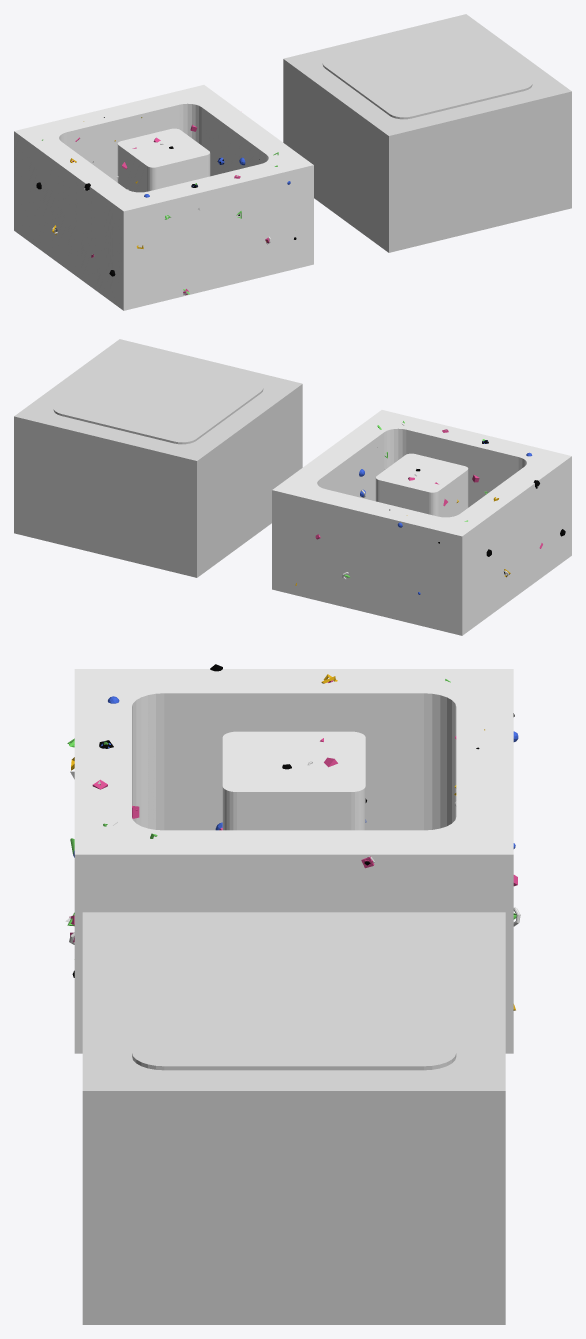
Rendered from wall2.glb.
3 renders of one model, top to bottom at view 1: azimuth 30°, elevation 25°; view 2: azimuth 150°, elevation 25°; view 3: azimuth 270°, elevation 25°, orthographic. The views are drawn at different scales.
Visible parts, largest first — view 1: Exterior wall volume, System, Cube; view 2: Exterior wall volume, System, Cube; view 3: System, Exterior wall volume, Cube.
Part boxes in pixels (x1,y1,x2,y2): Exterior wall volume: (14, 85, 313, 310); System: (283, 14, 571, 252); Cube: (322, 28, 532, 119); Exterior wall volume: (272, 410, 571, 635); System: (14, 339, 302, 577); Cube: (53, 353, 263, 444); System: (82, 912, 505, 1324); Exterior wall volume: (74, 669, 513, 1053); Cube: (132, 929, 456, 1070).
Size of the model in its own units: 57.96 by 14.7 by 25.08.
6 materials, 1 textured.
